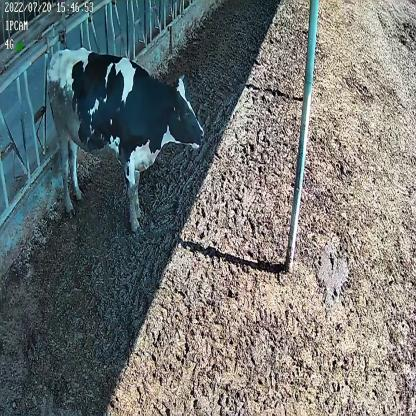cow: (47, 50, 203, 229)
